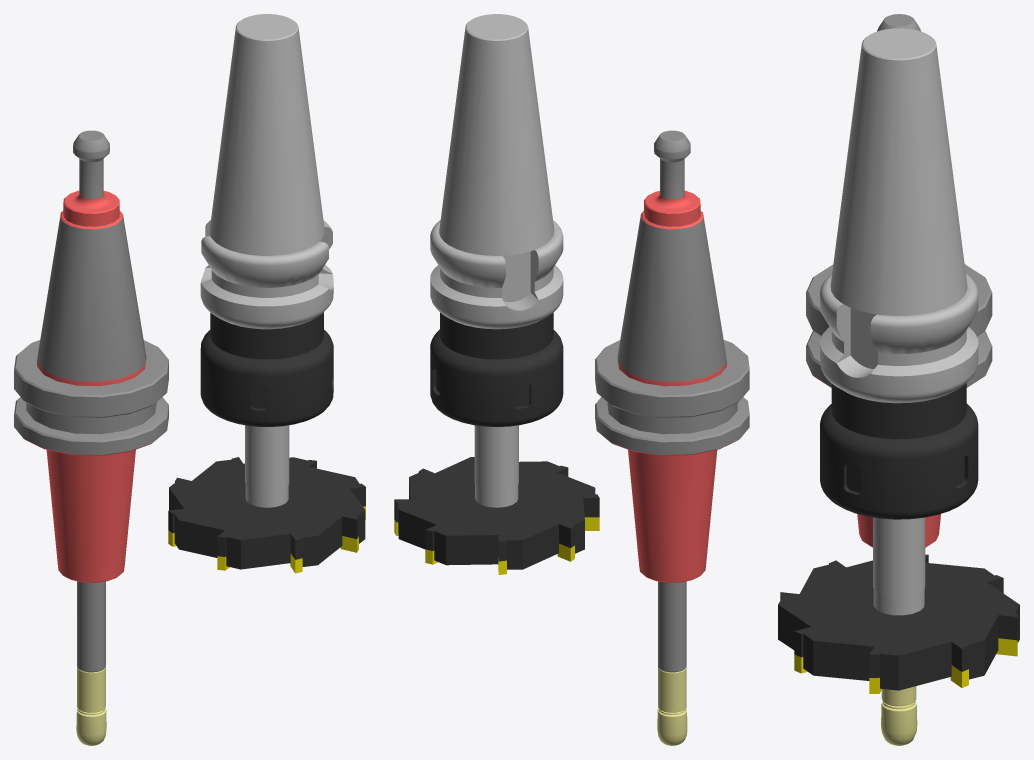
The model's file is Knife.FBX.
3 views of the same model, side by side, from view 1: azimuth 30°, elevation 25°; view 2: azimuth 150°, elevation 25°; view 3: azimuth 270°, elevation 25° (orthographic). The views are drawn at different scales.
Visible parts, largest first — view 1: Knife_Big, KnifeB; view 2: Knife_Big, KnifeB; view 3: Knife_Big, KnifeB.
Part boxes in pixels (x1,y1,x2,y2): Knife_Big: (168, 14, 365, 573); KnifeB: (14, 130, 168, 745); Knife_Big: (394, 14, 599, 574); KnifeB: (595, 130, 749, 745); Knife_Big: (778, 28, 1019, 693); KnifeB: (806, 14, 992, 745).
Bounding box in the file's own units: 17.23 × 9.16 × 33.54.
